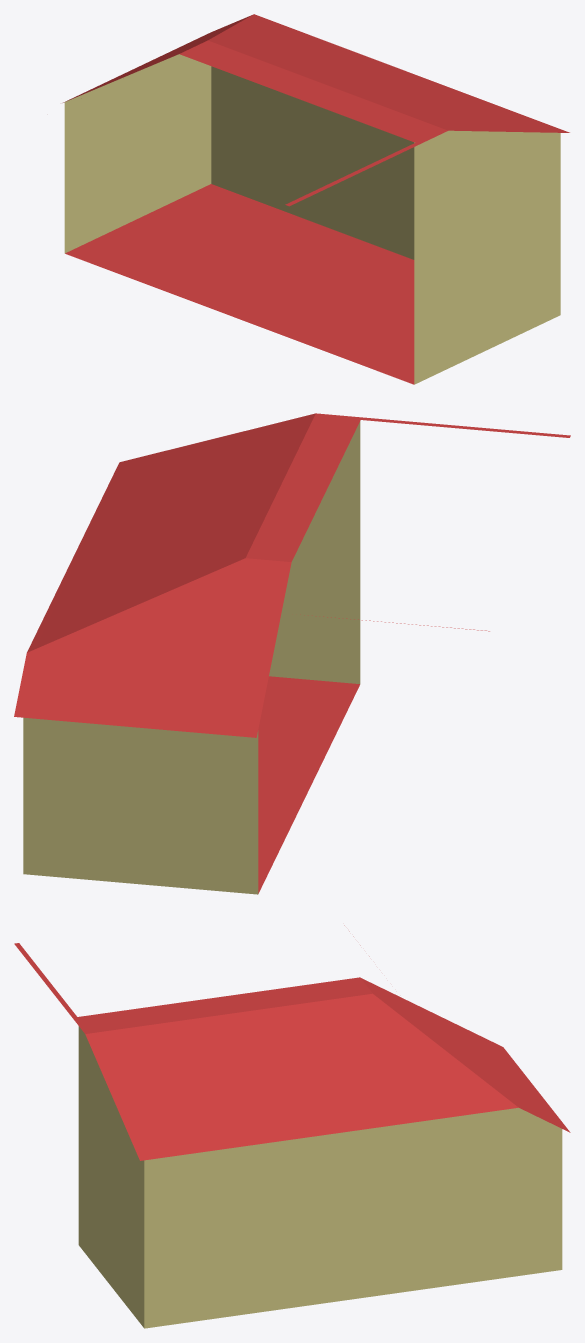
3 renders of one model, top to bottom at view 1: azimuth 30°, elevation 25°; view 2: azimuth 150°, elevation 25°; view 3: azimuth 270°, elevation 25°, orthographic. The views are drawn at different scales.
Bounding box in the file's own units: 17.96 × 20.47 × 9.26.
